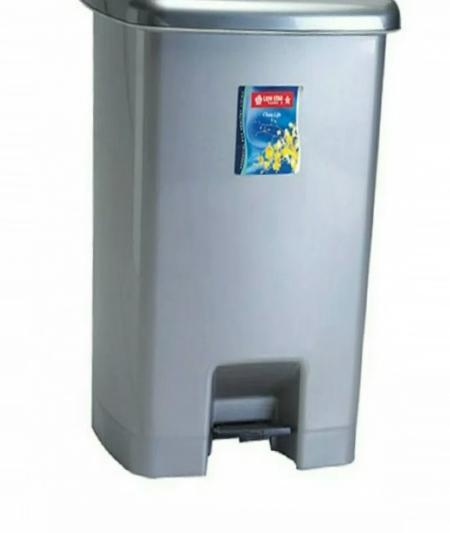Bote de Basura: (88, 0, 409, 465)
